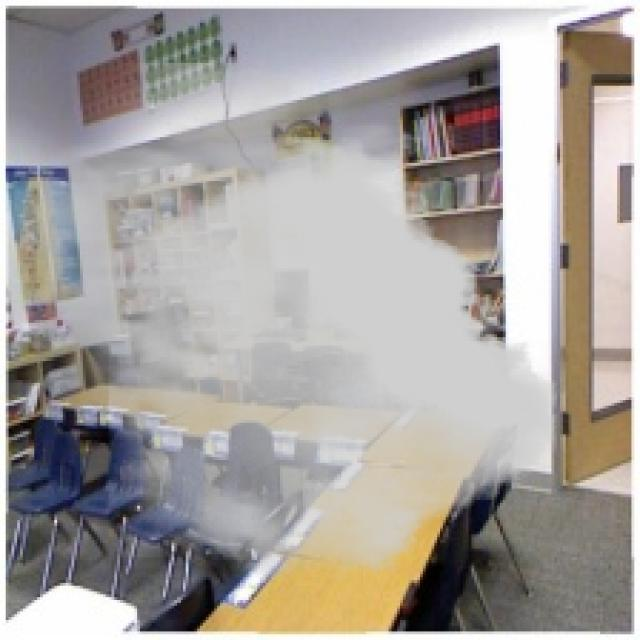smoke: (14, 63, 557, 580)
